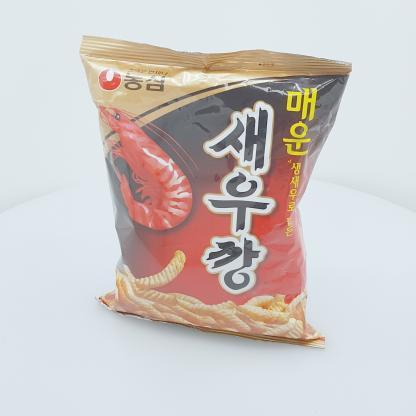Plastic Packaging: (72, 24, 356, 354)
